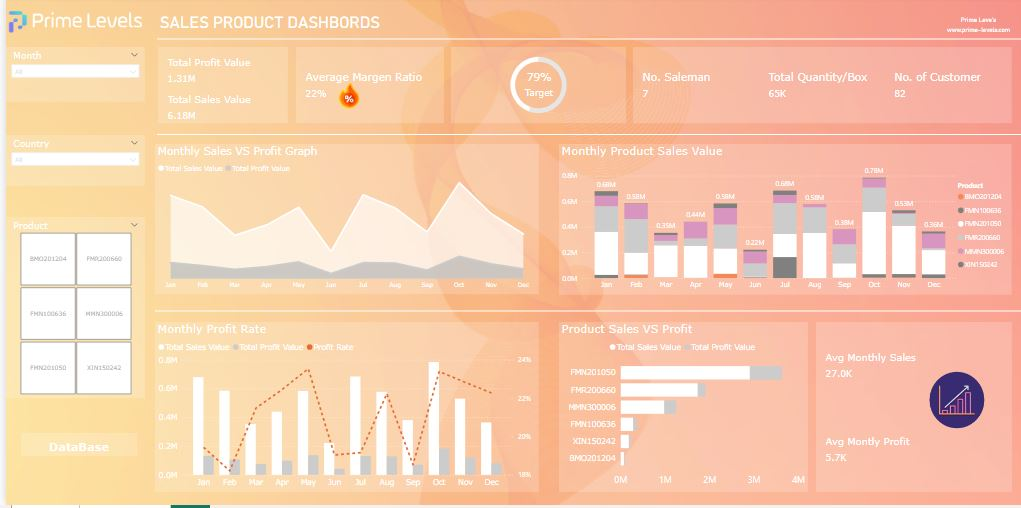

The page's visual inventory and layout, read from the dashboard file:
{"tool":"powerbi","page":{"name":"Sales","canvas":[1800,900],"ordinal":0},"visuals":[{"type":"textbox","box":[264,37.2,581.1,51.4],"z":0},{"type":"shape","box":[267.5,74.4,1532.5,30.1],"z":1000},{"type":"textbox","box":[1645.9,23,154.1,51.4],"z":2000},{"type":"slicer","fields":{"Values":["Sale Data.Month"]},"box":[5.3,260.4,240.9,97.4],"z":3000},{"type":"slicer","fields":{"Values":["Sale Data.Country"]},"box":[5.3,382.7,240.9,90.4],"z":4000},{"type":"cardVisual","fields":{"Data":["Sale Data.Total Profit Value","Sale Data.Total Sales Value"]},"box":[269.3,104.5,230.3,134.6],"z":5000},{"type":"shape","box":[267.5,223.2,1532.5,62],"z":6000},{"type":"cardVisual","fields":{"Data":["Sale Data.Average Margen Ratio"]},"box":[513.8,104.5,262.2,134.6],"z":7000},{"type":"image","box":[570.5,147,74.4,54.9],"z":8000},{"type":"donutChart","fields":{"Category":["Target Status.Category"],"Y":["Sale Data.The Target"]},"box":[788.4,104.5,310,134.6],"z":9000},{"type":"cardVisual","fields":{"Data":["Sale Data.No. Saleman","Sale Data.Total Quantity/Box","Sale Data.No. of Customer"]},"box":[1110.8,104.5,671.5,134.6],"z":10000},{"type":"areaChart","title":"Monthly Sales VS Profit Graph","fields":{"Category":["Sale Data.Month"],"Y":["Sale Data.Total Sales Value","Sale Data.Total Profit Value"]},"box":[269.3,285.2,675,228.5],"z":11000},{"type":"columnChart","title":"Monthly Product Sales Value","fields":{"Y":["Sale Data.Total Sales Value"],"Series":["Sale Data.Product"],"Category":["Sale Data.Month"]},"box":[979.7,285.2,802.6,228.5],"z":12000},{"type":"shape","box":[264,513.8,1536,40.7],"z":13000},{"type":"card","fields":{"Values":["Sale Data.Target"]},"box":[875.2,118.7,138.2,104.5],"z":14000},{"type":"lineClusteredColumnComboChart","title":"Monthly Profit Rate","fields":{"Category":["Sale Data.Month"],"Y":["Sale Data.Total Sales Value","Sale Data.Total Profit Value"],"Y2":["Sale Data.Profit Rate"]},"box":[269.3,566.9,675,278.1],"z":15000},{"type":"barChart","title":"Product Sales VS Profit","fields":{"Category":["Sale Data.Product"],"Y":["Sale Data.Total Sales Value","Sale Data.Total Profit Value"]},"box":[979.7,566.9,435.8,278.1],"z":16000},{"type":"cardVisual","fields":{"Data":["Sale Data.Avg Monthly Sales","Sale Data.Avg Montly Profit"]},"box":[1435,556.3,347.2,288.8],"z":17000},{"type":"image","box":[1665.4,914.2,233.9,174.8],"z":18000},{"type":"image","box":[0,15.9,246.3,88.6],"z":19000},{"type":"image","box":[1589.2,628.9,152.4,116.9],"z":20000},{"type":"shape","box":[264,272.8,680.3,240.9],"z":21000},{"type":"shape","box":[974.4,272.8,807.9,240.9],"z":22000},{"type":"shape","box":[264,554.5,680.3,290.6],"z":23000},{"type":"shape","box":[974.4,556.3,441.1,288.8],"z":24000},{"type":"shape","box":[226.8,104.5,39,134.6],"z":25000},{"type":"pageNavigator","box":[124,104.5,122.2,134.6],"z":26000},{"type":"advancedSlicerVisual","fields":{"Values":["Sale Data.Product"]},"box":[5,496.1,240.9,350.8],"z":27000}]}

Visuals, with their boxes in screenshot pixels (x1, y1, x2, y2), scaled from the page's 1800x900 canvas onto the 1021x508 screenshot:
textbox: bbox(150, 21, 479, 50)
shape: bbox(152, 42, 1020, 59)
textbox: bbox(934, 13, 1020, 42)
slicer - Sale Data.Month: bbox(3, 147, 140, 202)
slicer - Sale Data.Country: bbox(3, 216, 140, 267)
cardVisual - Sale Data.Total Profit Value x Sale Data.Total Sales Value: bbox(153, 59, 283, 135)
shape: bbox(152, 126, 1020, 161)
cardVisual - Sale Data.Average Margen Ratio: bbox(291, 59, 440, 135)
image: bbox(324, 83, 366, 114)
donutChart - Target Status.Category x Sale Data.The Target: bbox(447, 59, 623, 135)
cardVisual - Sale Data.No. Saleman x Sale Data.Total Quantity/Box: bbox(630, 59, 1011, 135)
"Monthly Sales VS Profit Graph" areaChart: bbox(153, 161, 536, 290)
"Monthly Product Sales Value" columnChart: bbox(556, 161, 1011, 290)
shape: bbox(150, 290, 1020, 313)
card - Sale Data.Target: bbox(496, 67, 575, 126)
"Monthly Profit Rate" lineClusteredColumnComboChart: bbox(153, 320, 536, 477)
"Product Sales VS Profit" barChart: bbox(556, 320, 803, 477)
cardVisual - Sale Data.Avg Monthly Sales x Sale Data.Avg Montly Profit: bbox(814, 314, 1011, 477)
image: bbox(0, 9, 140, 59)
image: bbox(901, 355, 988, 421)
shape: bbox(150, 154, 536, 290)
shape: bbox(553, 154, 1011, 290)
shape: bbox(150, 313, 536, 477)
shape: bbox(553, 314, 803, 477)
shape: bbox(129, 59, 151, 135)
pageNavigator: bbox(70, 59, 140, 135)
advancedSlicerVisual - Sale Data.Product: bbox(3, 280, 139, 478)
